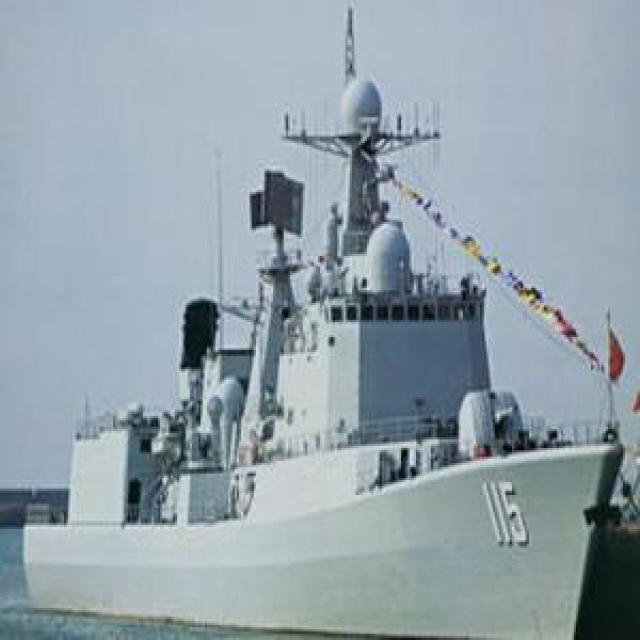navalvessels: (24, 40, 620, 640)
